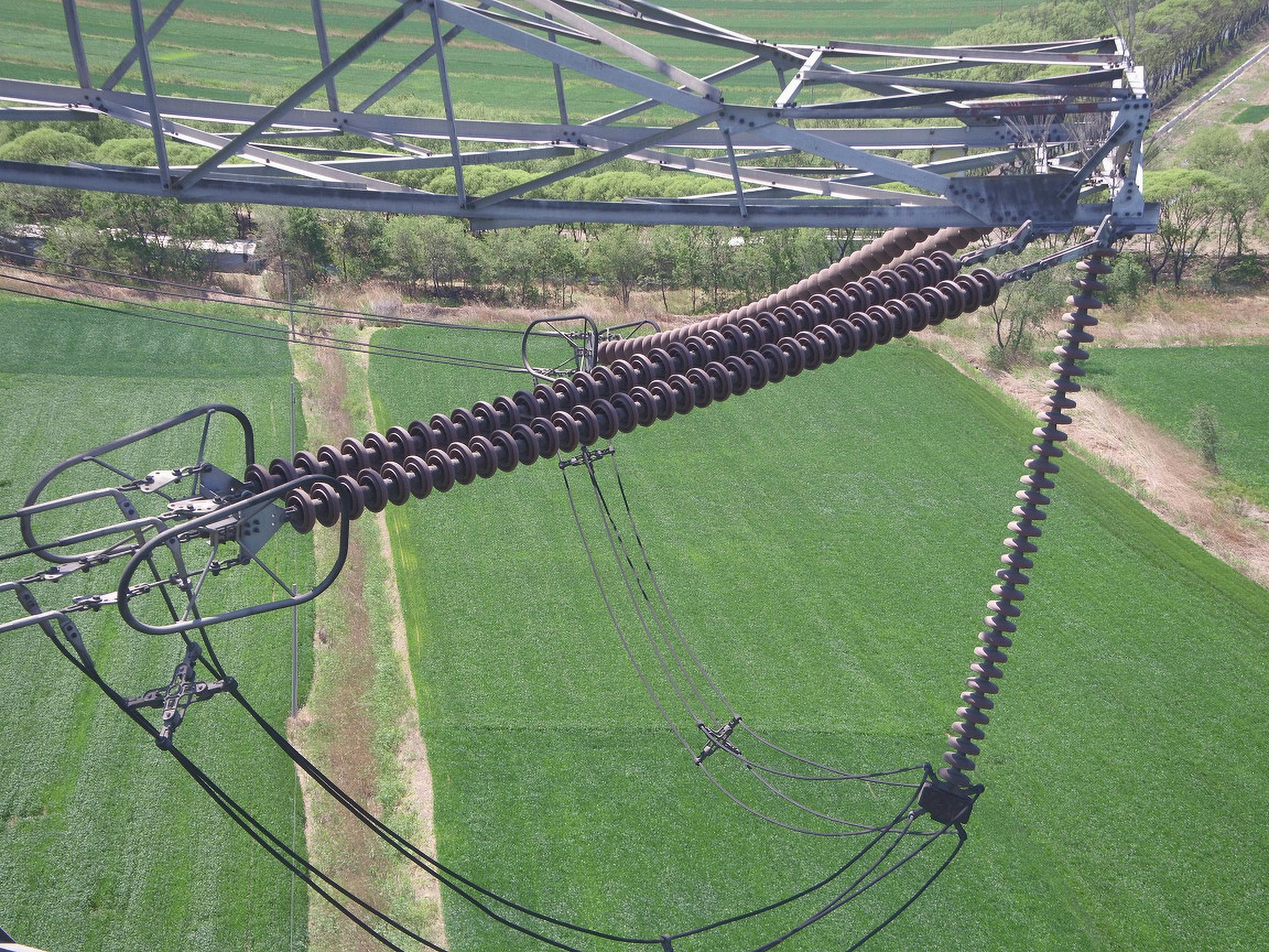insulator: (241, 248, 1005, 541), (934, 244, 1120, 790), (590, 220, 997, 372)
